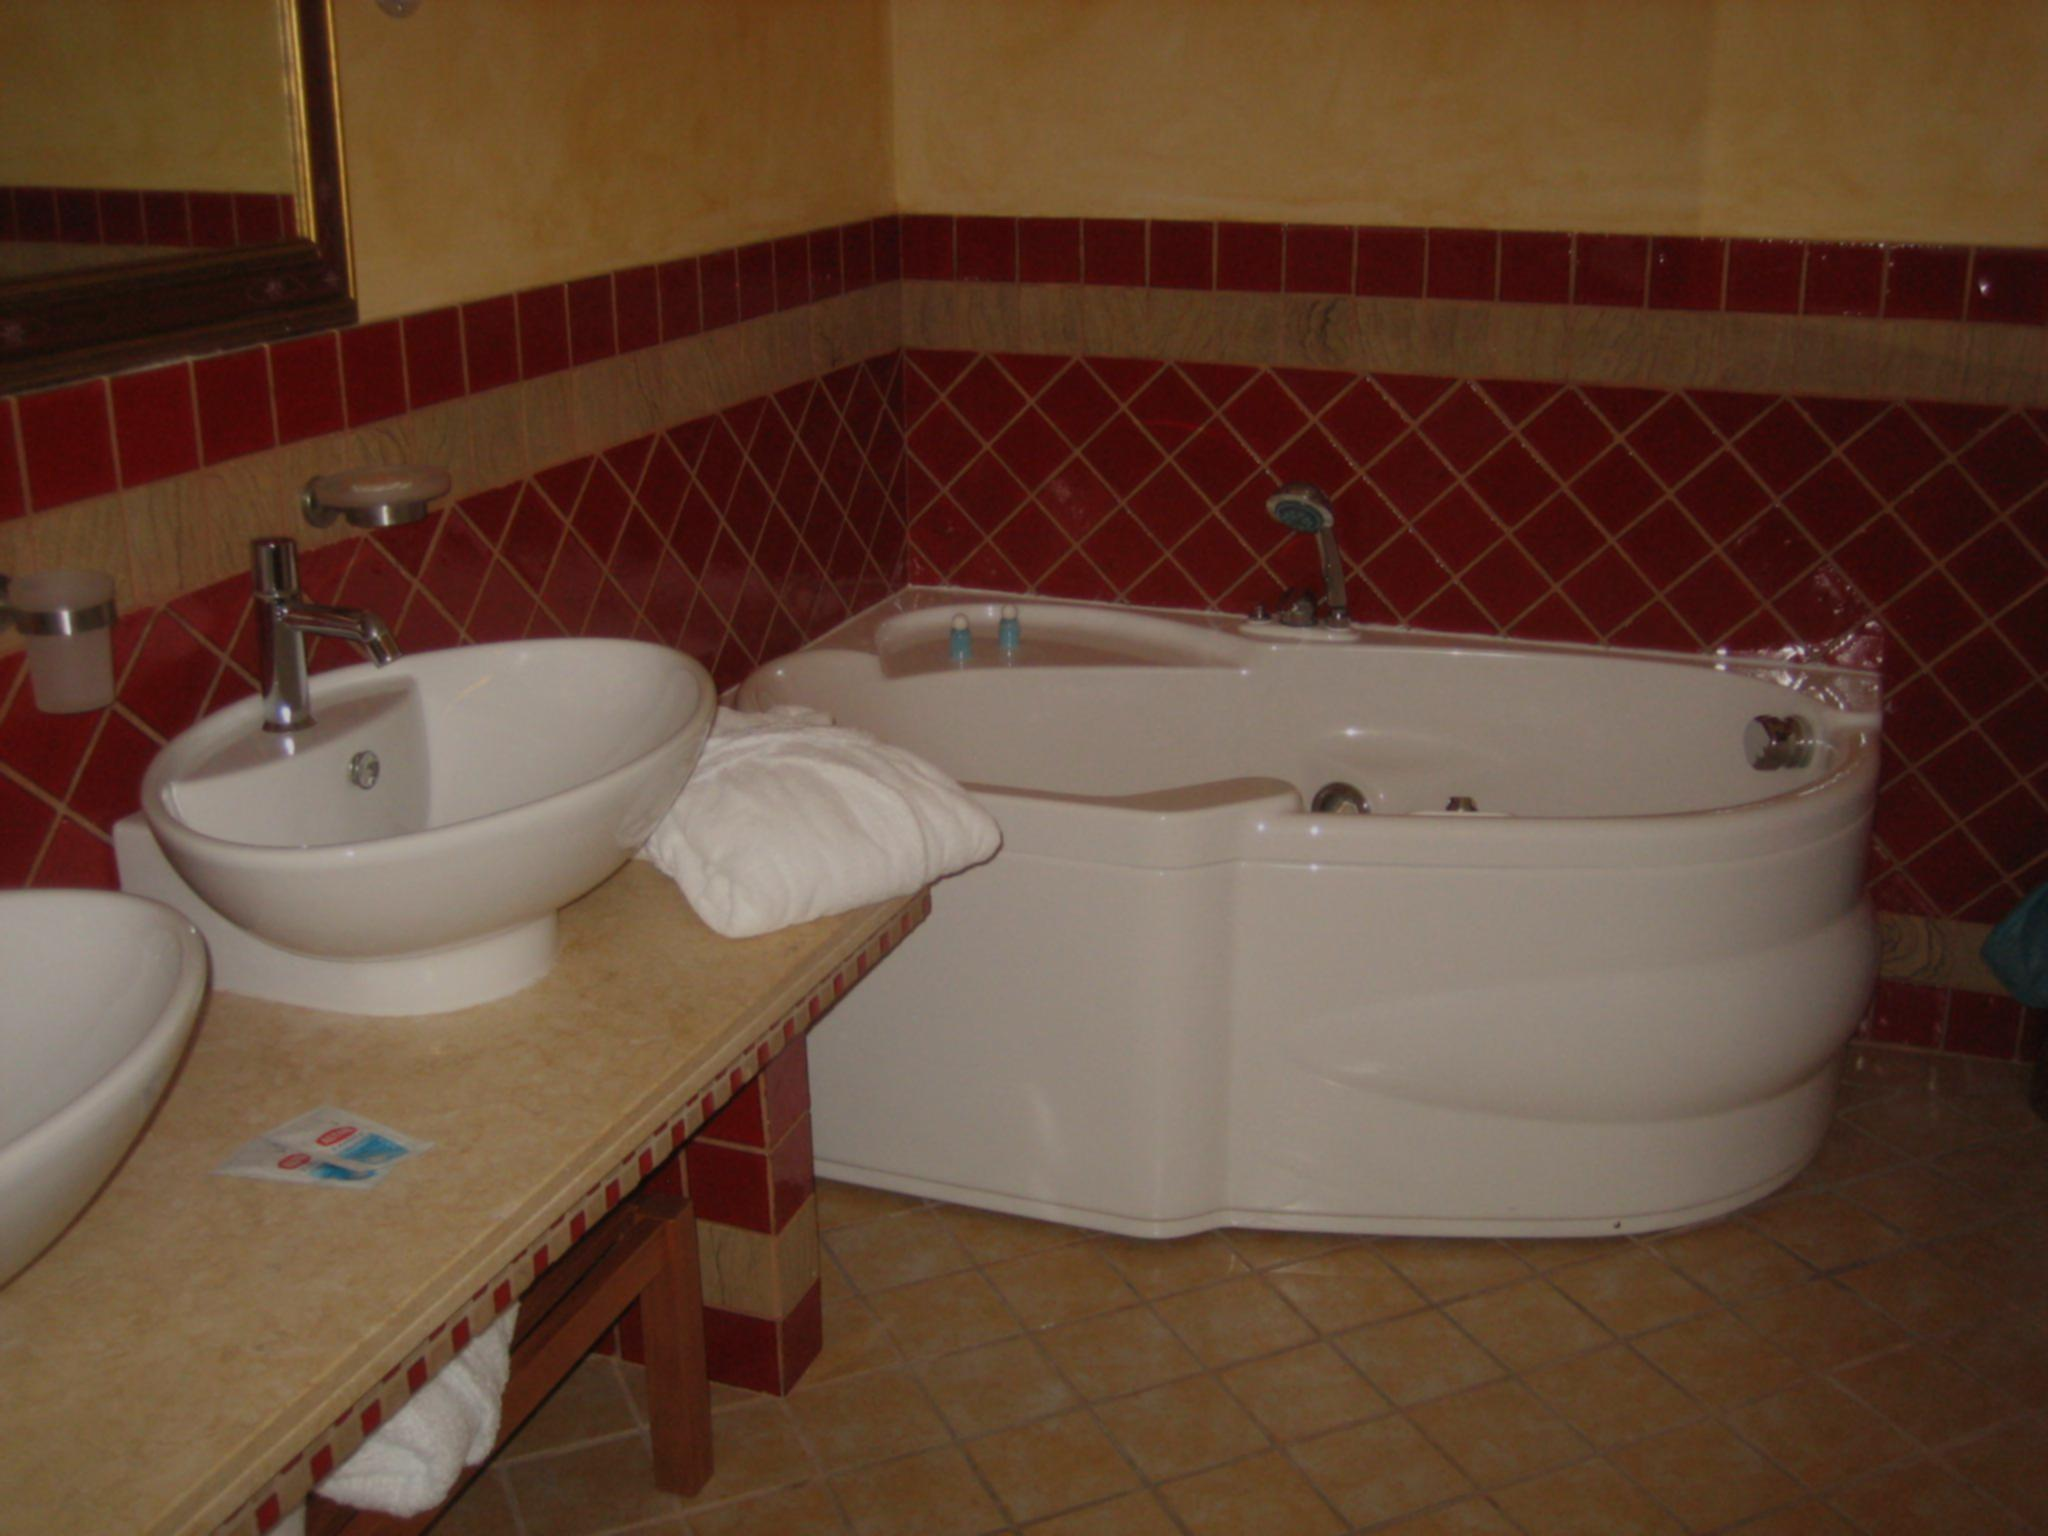Lavamanos: (147, 507, 706, 1029), (0, 757, 177, 1313)
